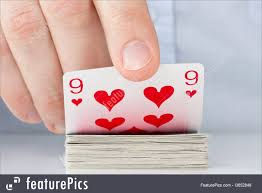nine of hearts: (62, 60, 208, 135)
